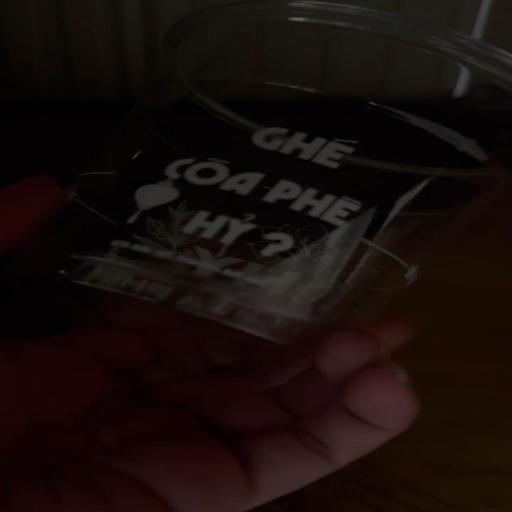ly_giay: (57, 0, 511, 341)
